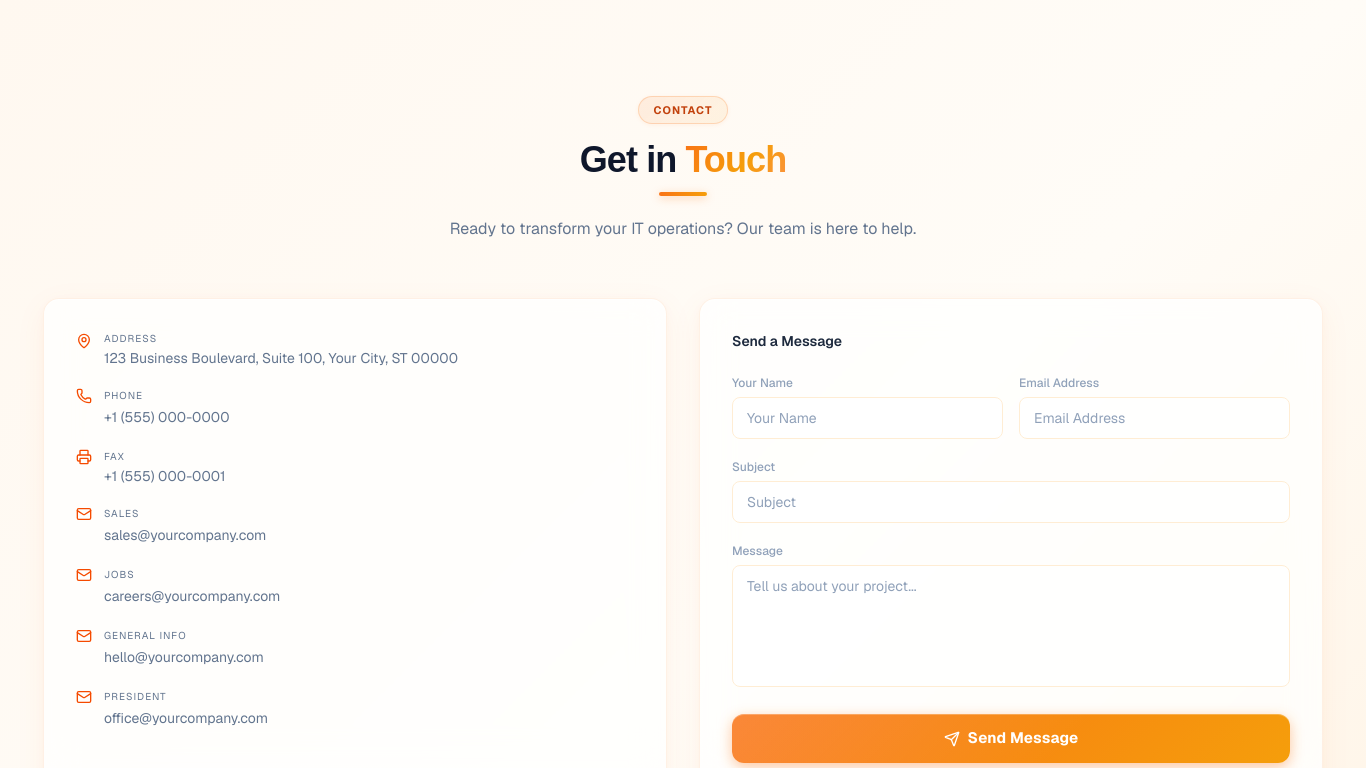
Test: Contact section › shows sending state when form is submitted
Type "John Doe" into the field with test id "input-name" at point(868, 418), box [732,397,1003,439]
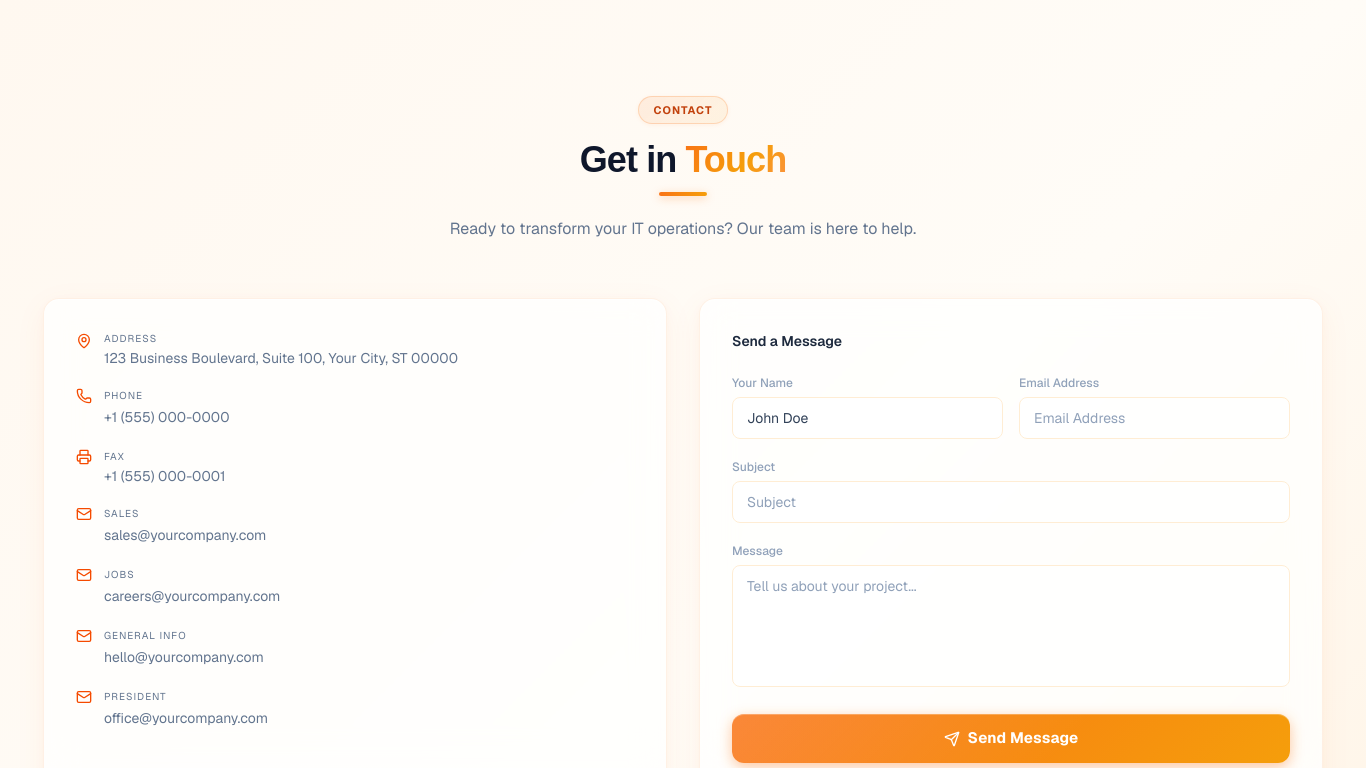
Type "john@example.com" into the field with test id "input-email" at point(1154, 418), box [1019,397,1290,439]
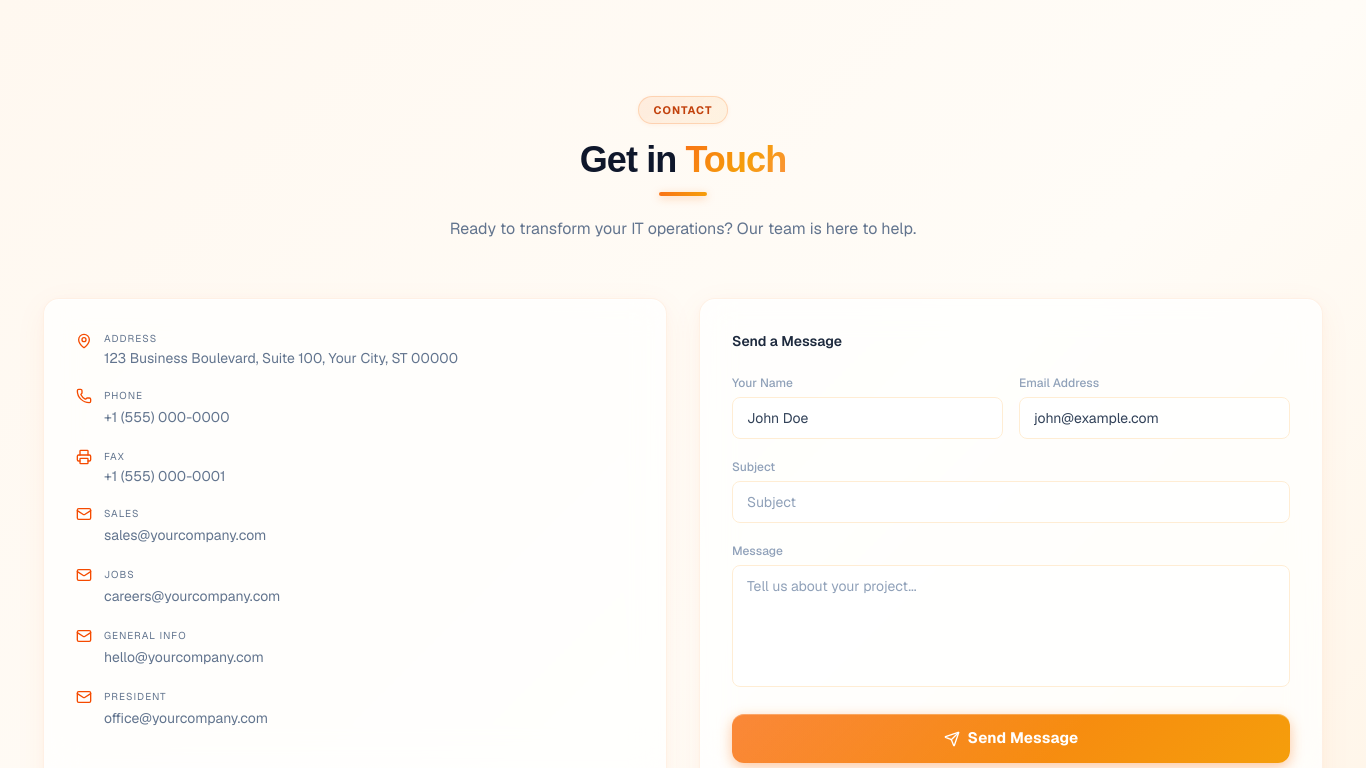
Type "Test subject" into the field with test id "input-subject" at point(1011, 502), box [732,481,1290,523]
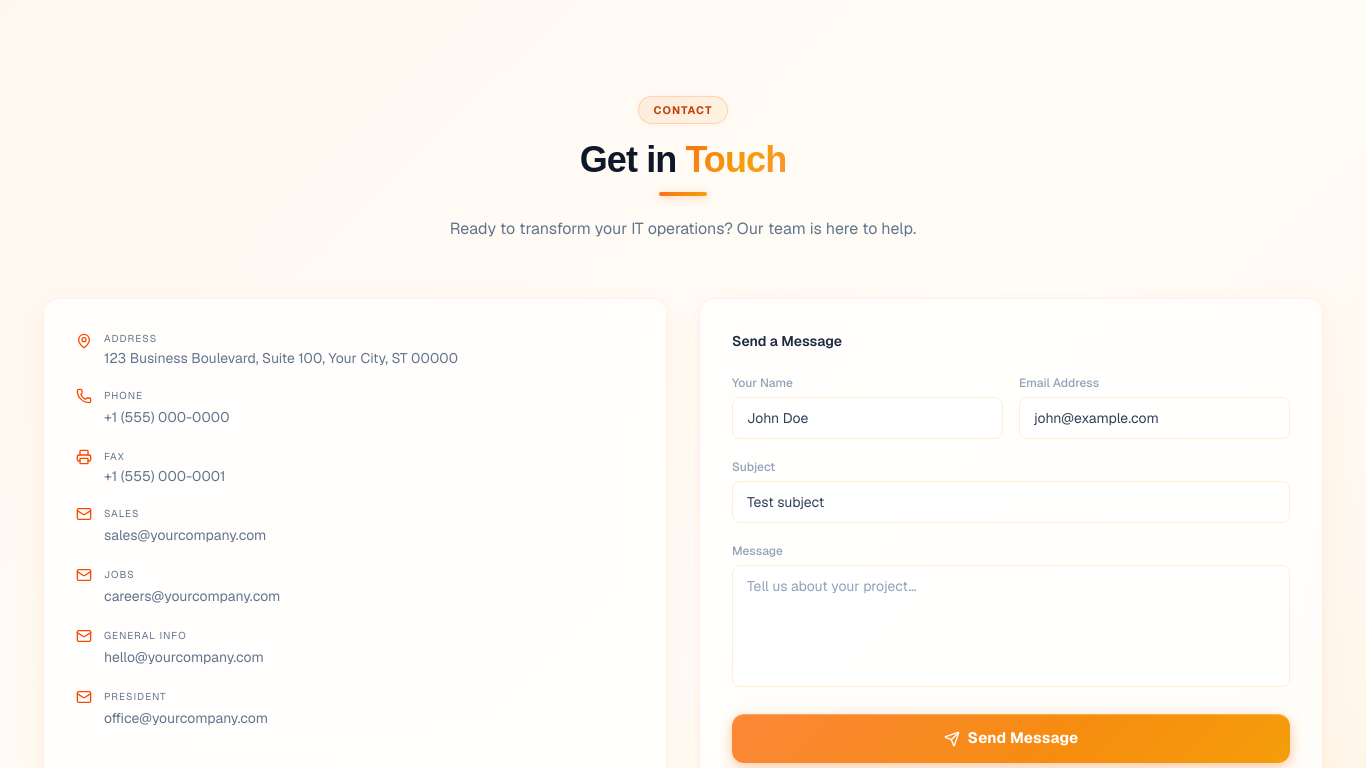
Type "Test message body" into the text box labelled "Message" at point(1011, 626), box [732,565,1290,687]
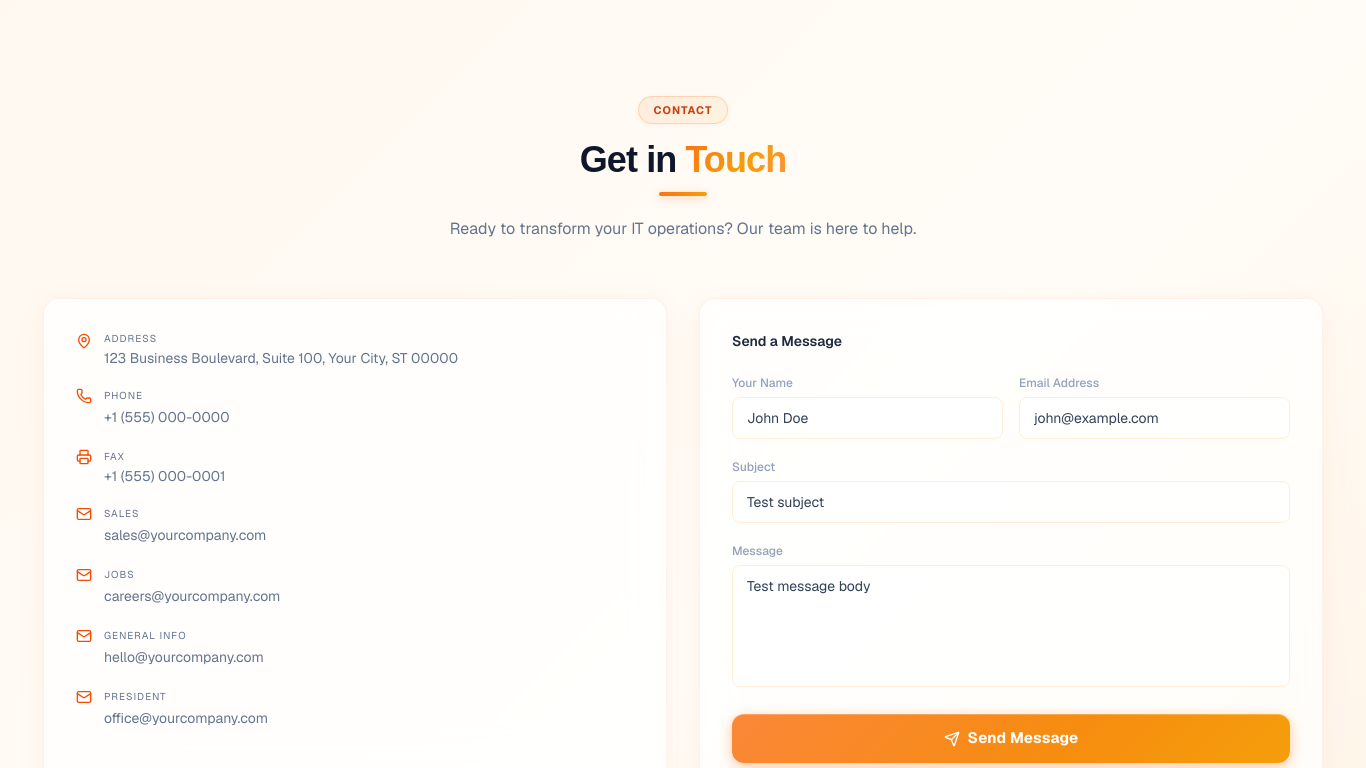
Click the button with test id "contact-submit" at point(1011, 739), box [732,714,1290,763]
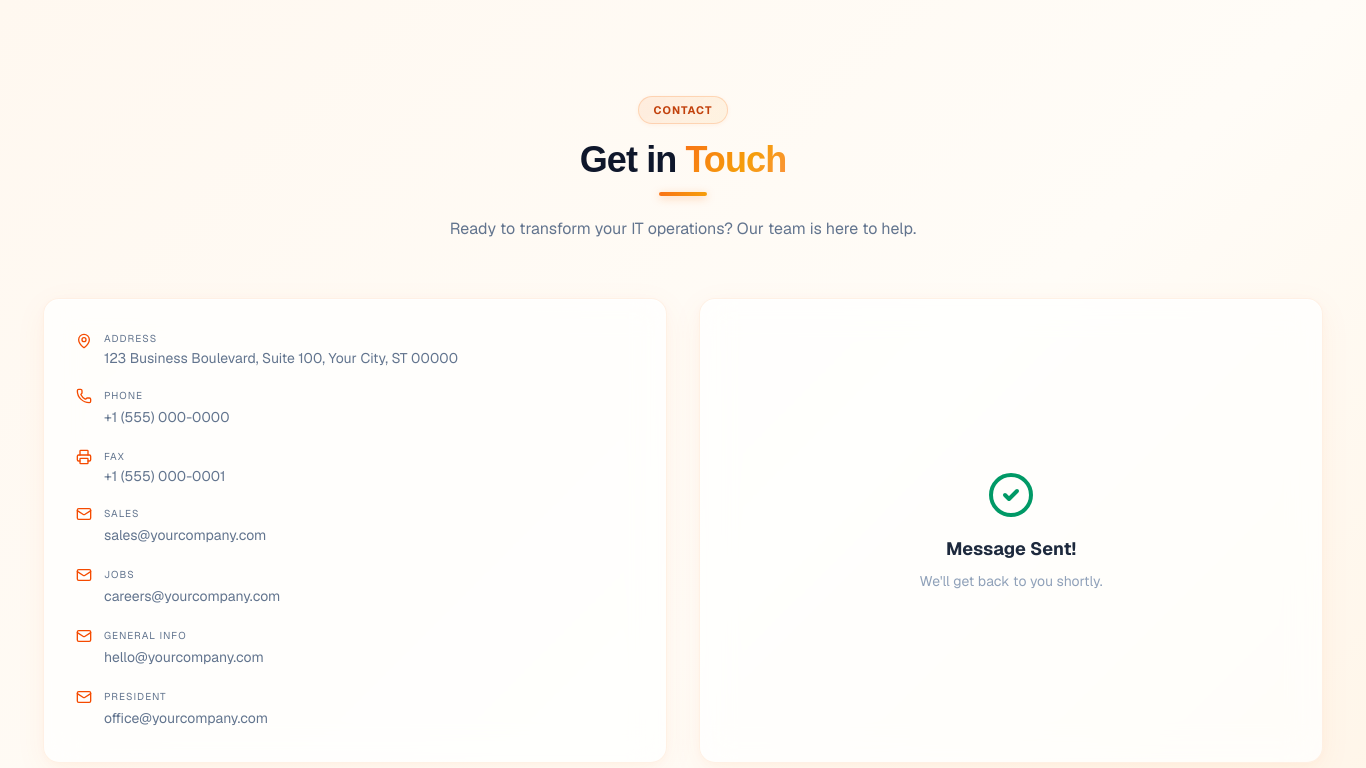
Expected: the heading "Message Sent!" is shown, [946,535,1076,563]
